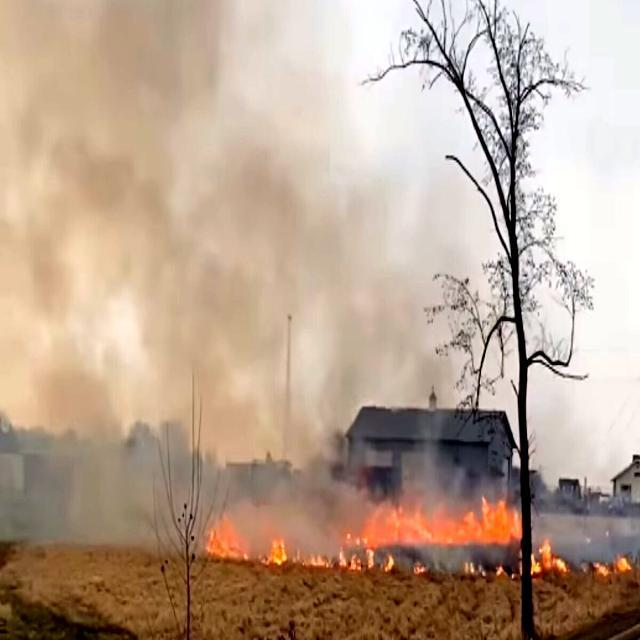Fire: (207, 490, 572, 580)
Smoke: (0, 4, 374, 551)
